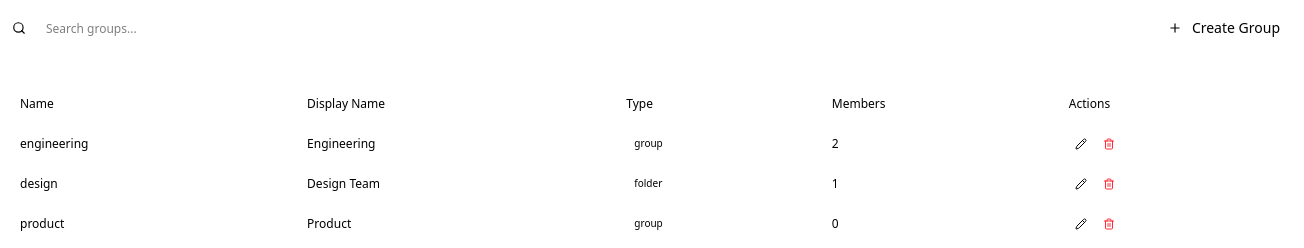
GroupsTab › filters groups by search input
Type "eng" into the field with placeholder "Search groups..." at x=162, y=28, box left=34, top=12, right=290, bottom=44
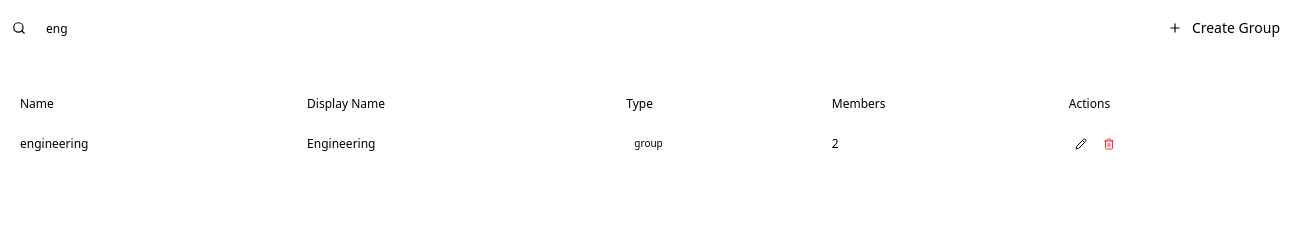
Expected: the text "engineering" is shown, left=12, top=124, right=299, bottom=164
Result: the text "design" is gone
